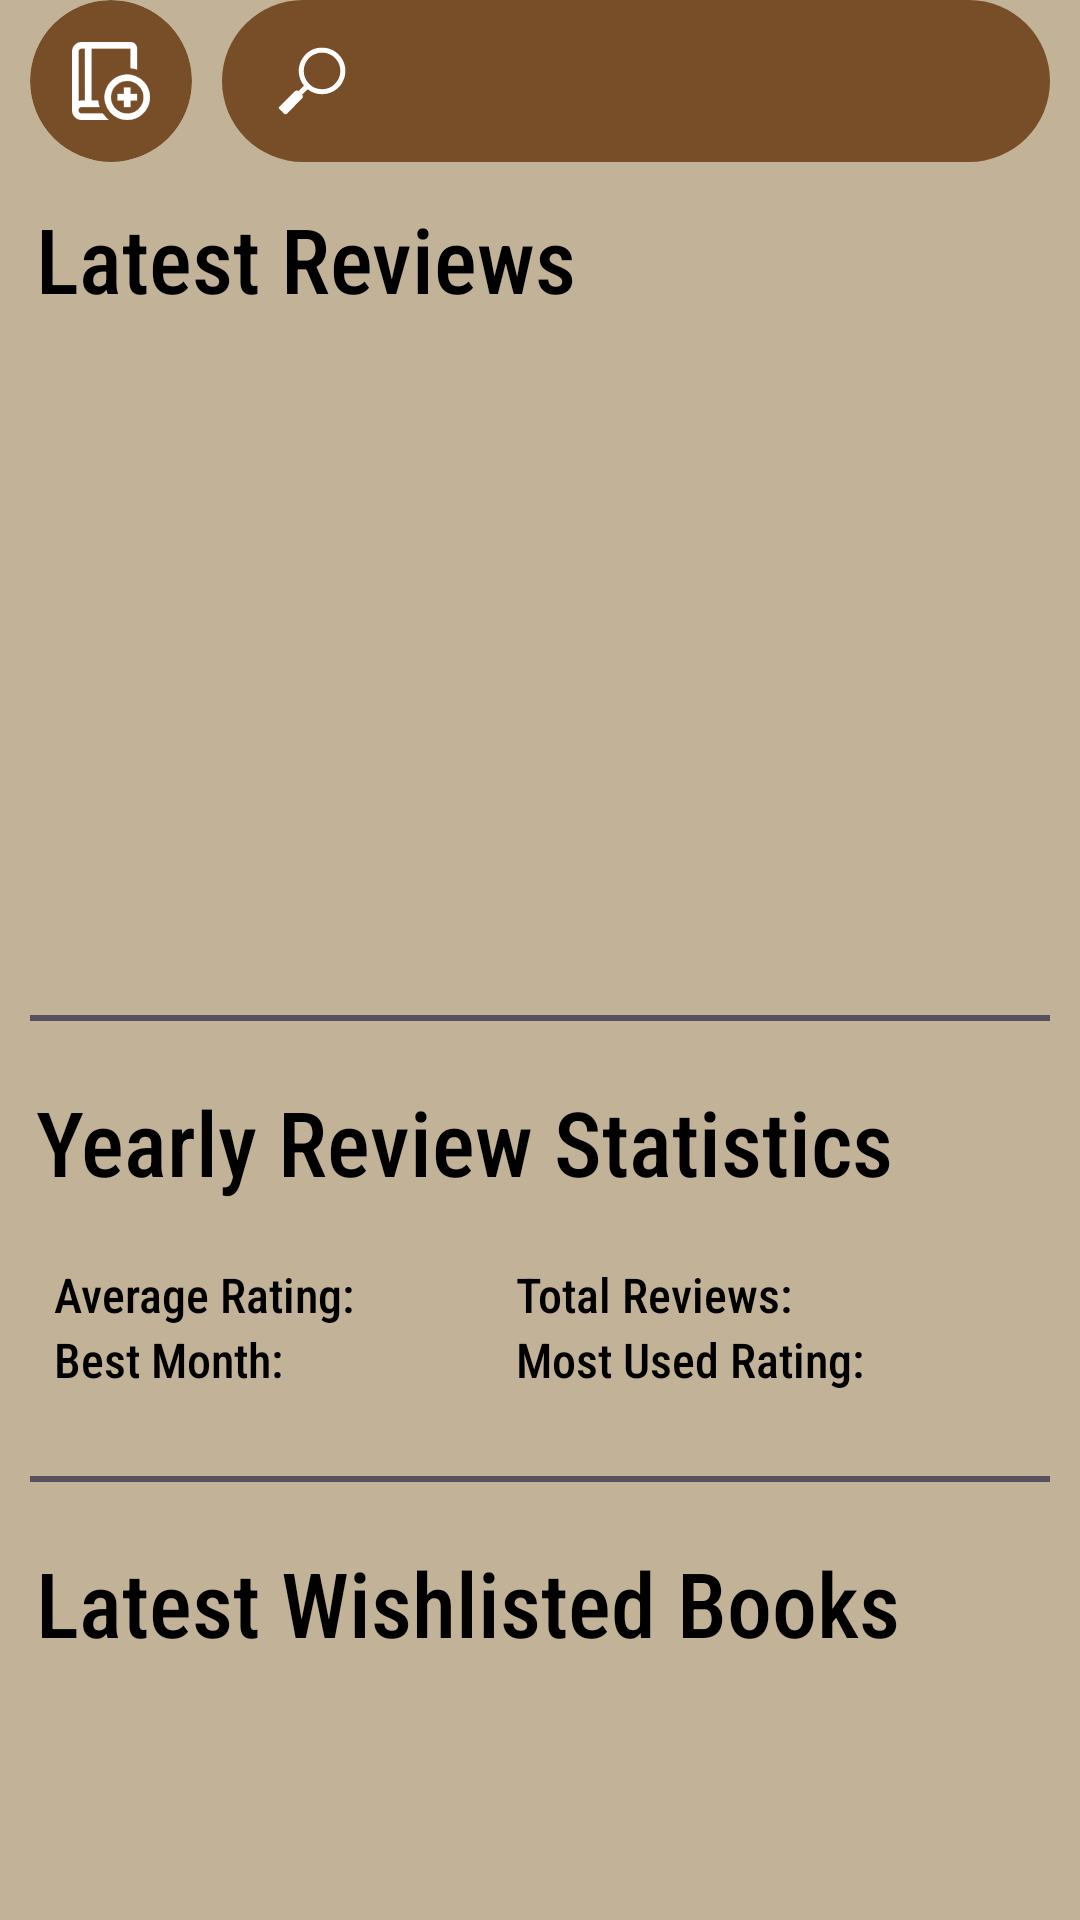

Where to tap for icons on this 1080 × 1920 app screen, as (x,y):
book plus ui: (111,81)
